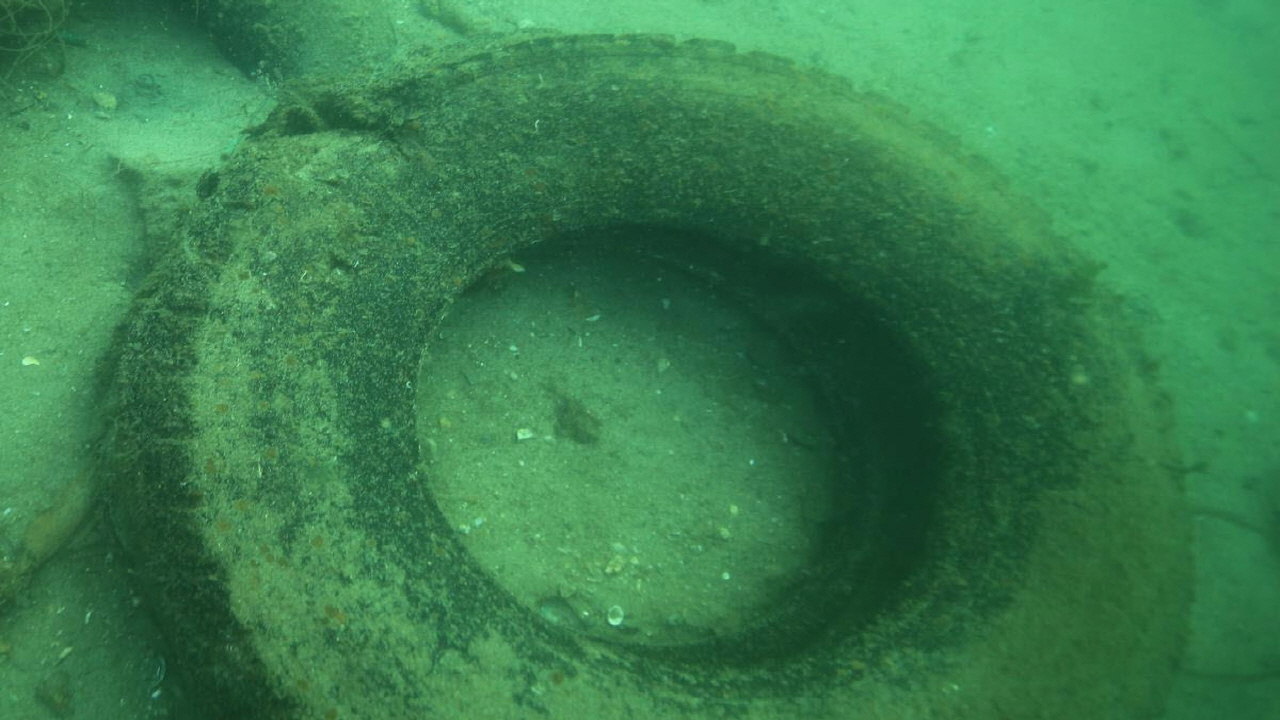tire: (97, 26, 1198, 720)
